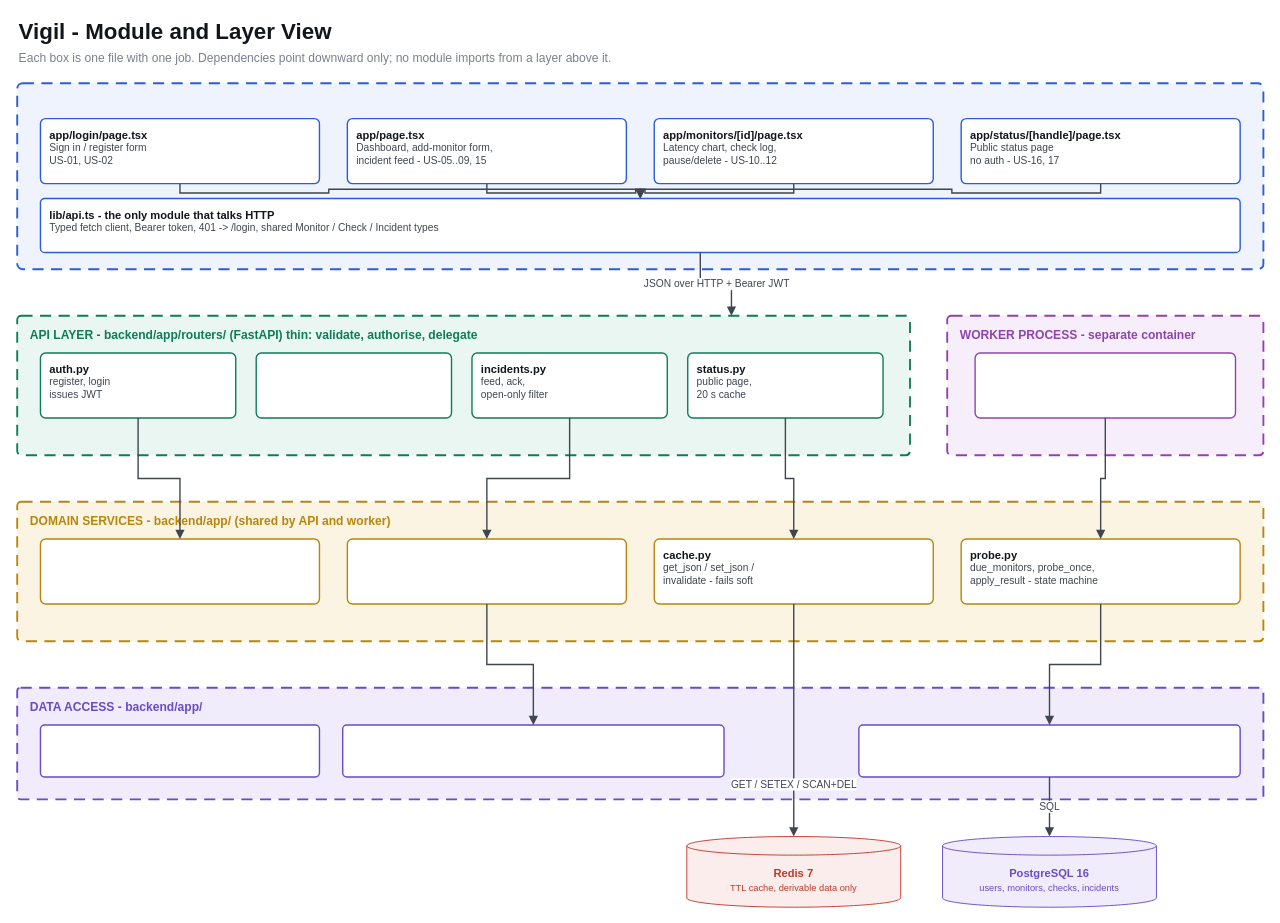
This 1280x923 diagram has some shape labels left out. The box of each missing label's shape, as (x1, y1, x2, y2) in pixels:
config.py Settings - every tunable from env vars: (39, 724, 320, 777)
db.py engine, SessionLocal, get_db() dependency: (858, 724, 1240, 777)
models.py User, Monitor, Check, Incident (SQLAlchemy 2.0): (342, 724, 724, 777)
monitors.py CRUD + series, _owned() check: (255, 352, 452, 418)
PRESENTATION - frontend/ (Next.js, TypeScript): (16, 82, 1264, 270)
security.py PBKDF2 hashing, JWT, current_user() dependency: (39, 538, 320, 604)
services.py rollup(), open_incident(), unique_slug() - pure queries: (346, 538, 627, 604)
worker.py wait_for_db(), then run_cycle() every 30 s: (974, 352, 1236, 418)
